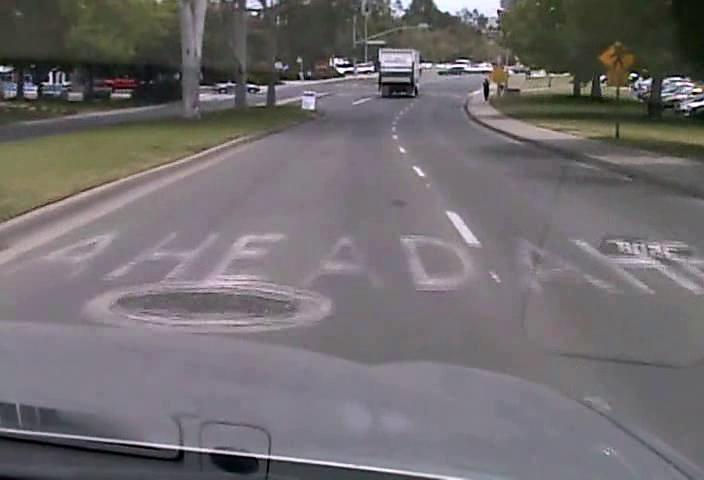pedestrianCrossing: (596, 39, 637, 73)
